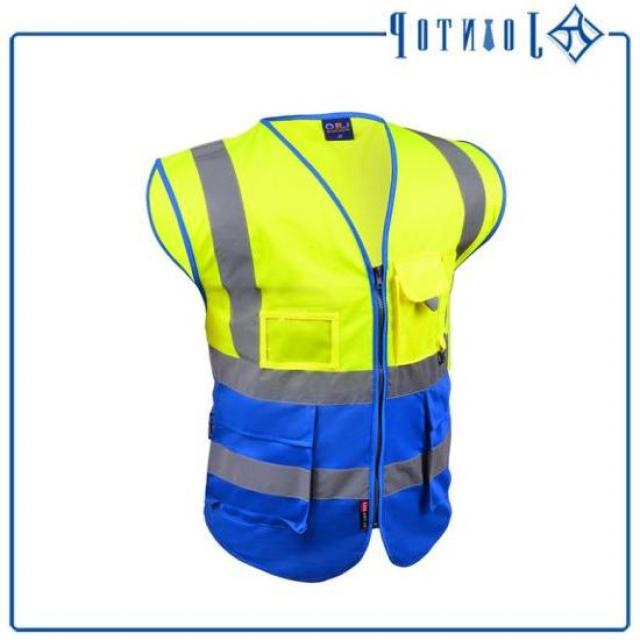Reflective-Jacket: (137, 95, 519, 588)
